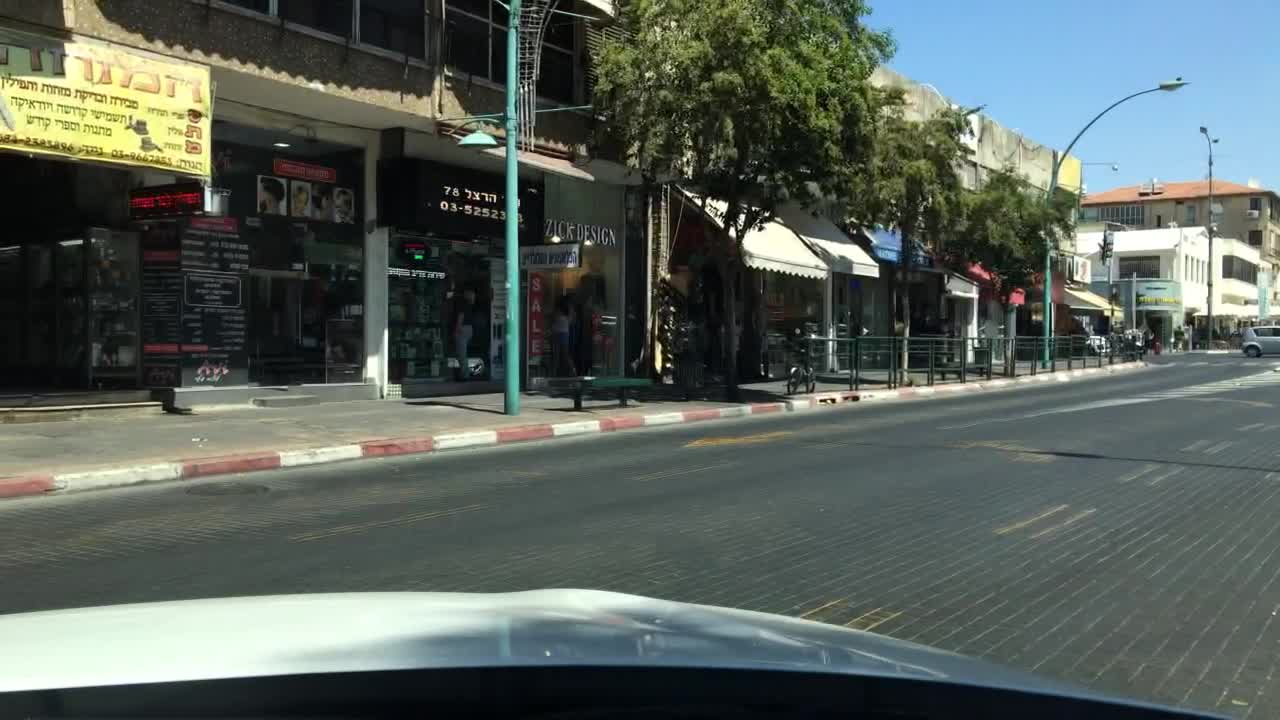bike: (779, 361, 816, 393)
car: (1240, 326, 1279, 358)
person: (546, 297, 577, 378), (450, 285, 472, 381), (1171, 320, 1186, 351)
traffic light: (1098, 238, 1113, 260)
